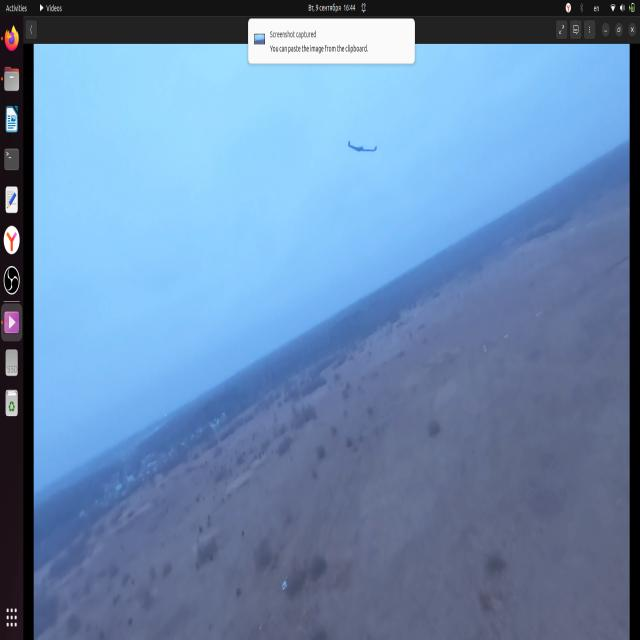planedrone: (344, 136, 378, 158)
